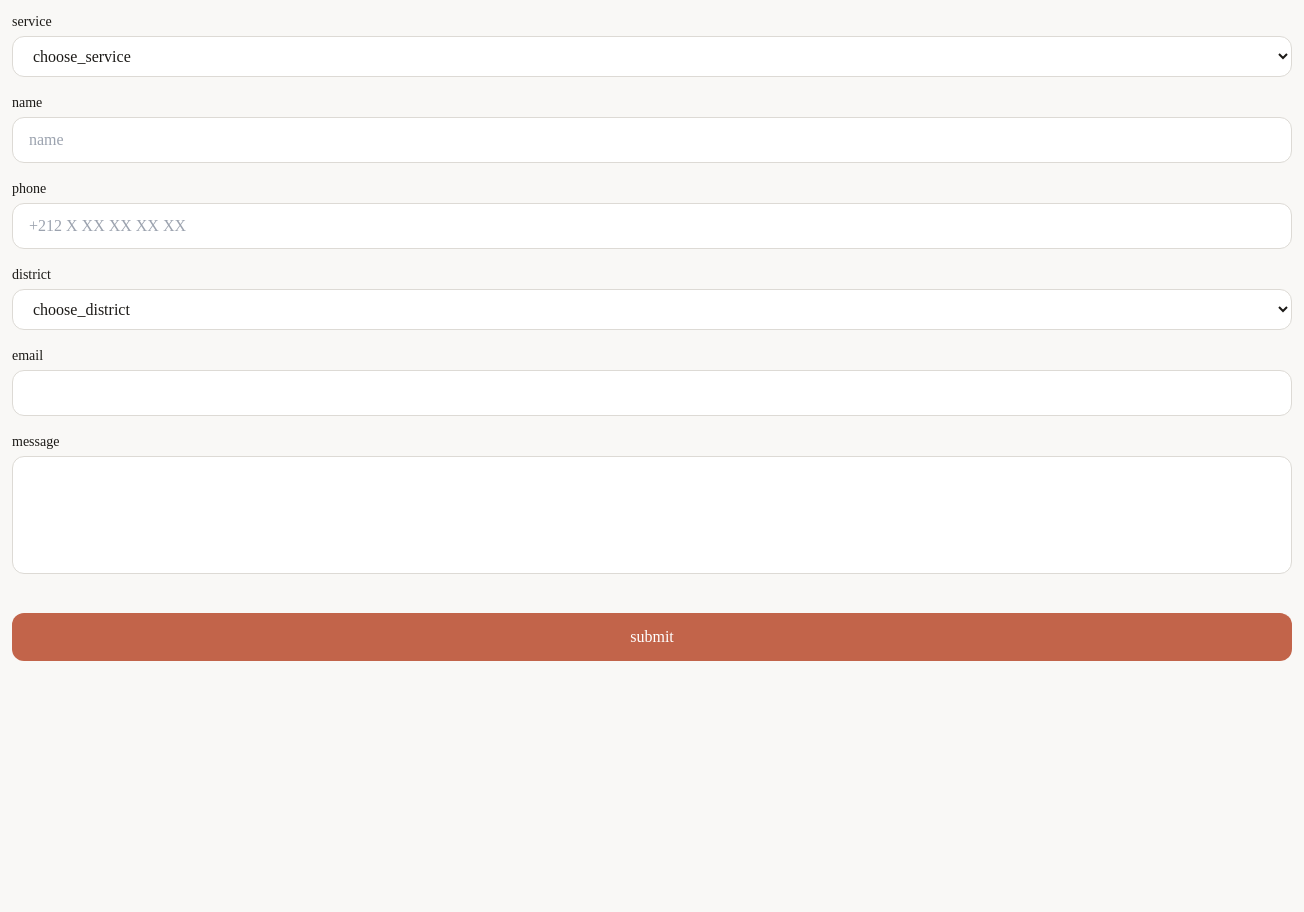
Test: ContactForm service selector › shows a mapped message when a service is required
Select "Plomberie" in the dropdown labelled "service" at (652, 56), box [12,36,1292,77]
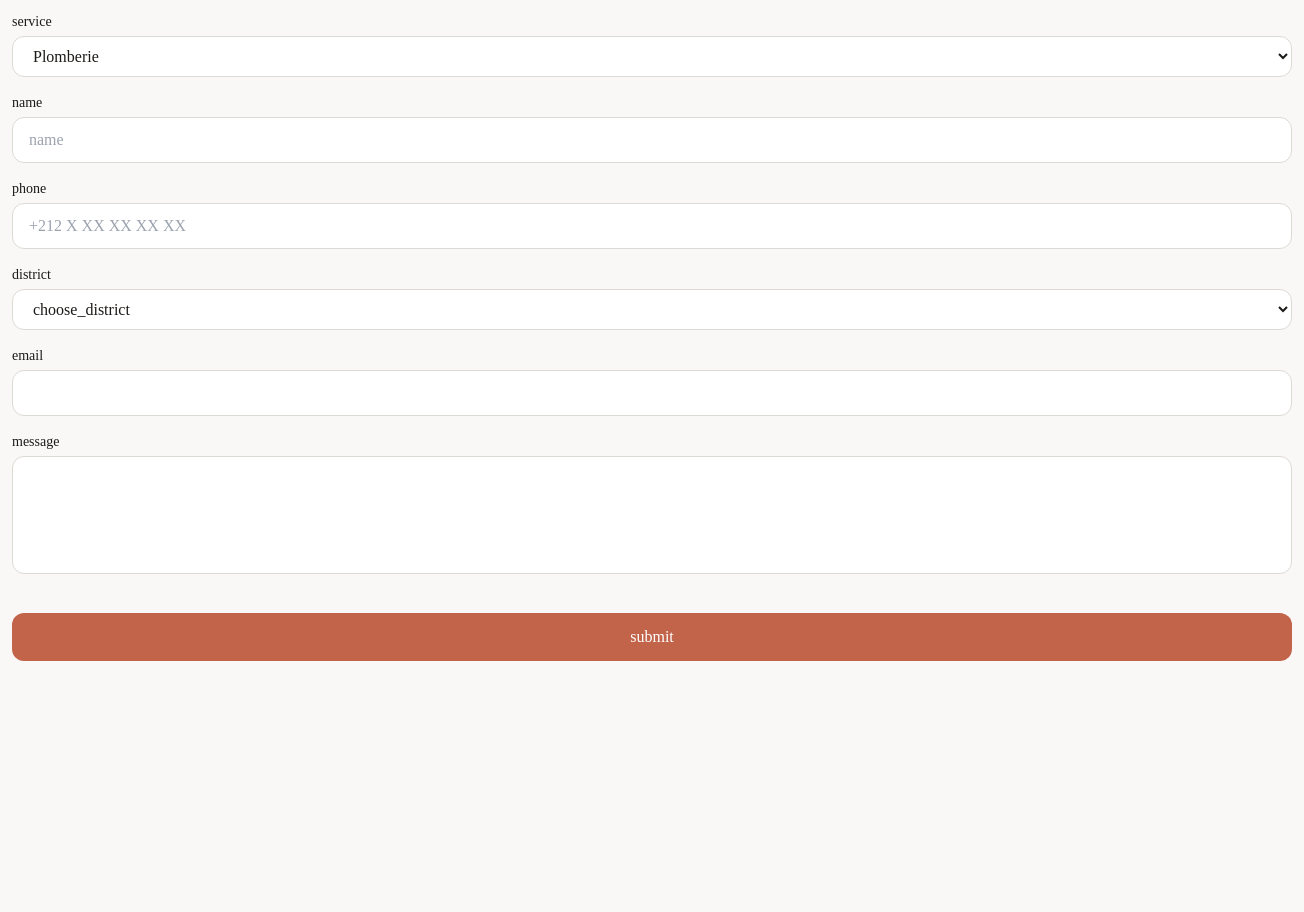
Type "Karim Test" into the field labelled "name" at (652, 140), box [12,117,1292,163]
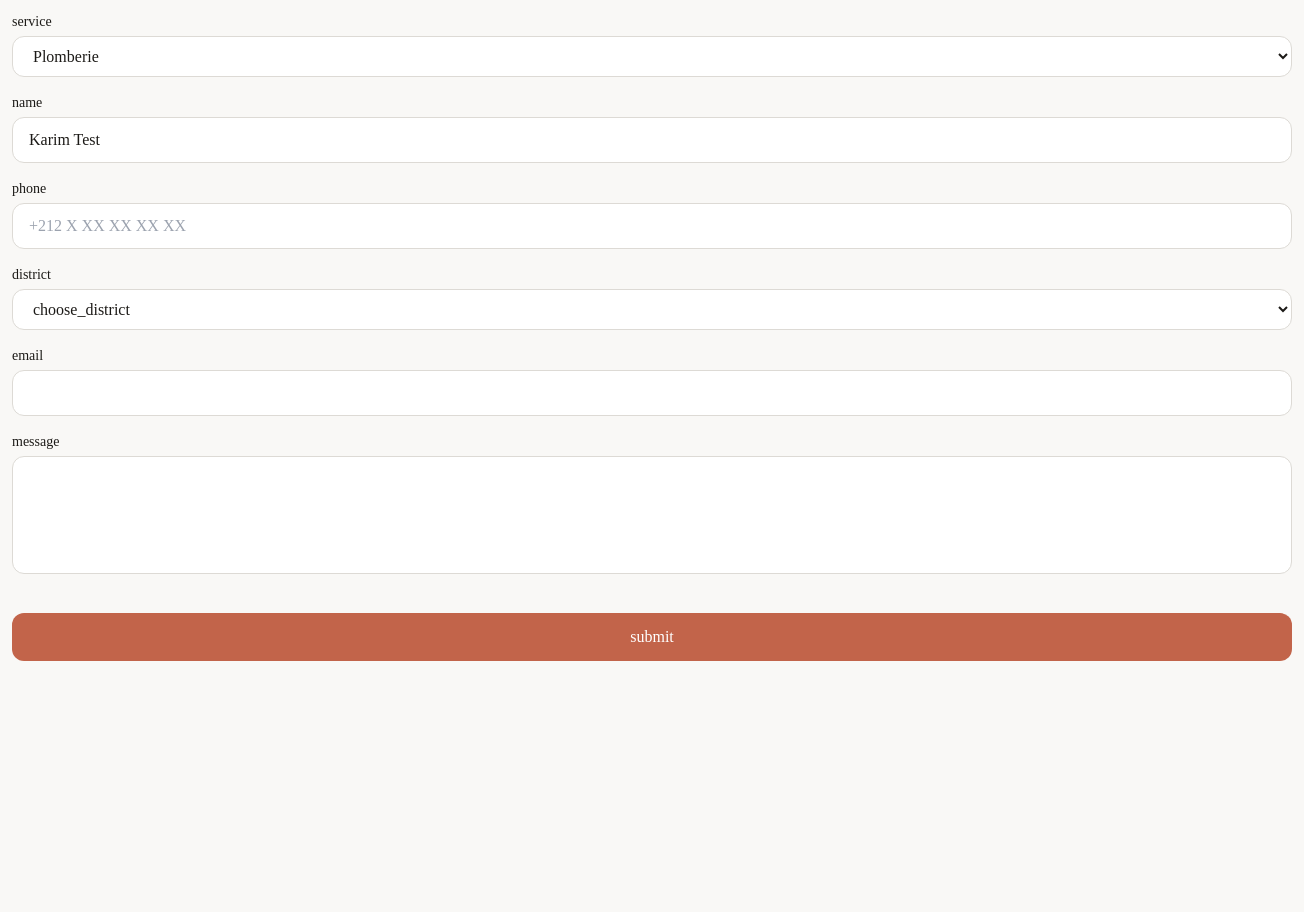
Type "+212612345678" into the field labelled "phone" at (652, 226), box [12,203,1292,249]
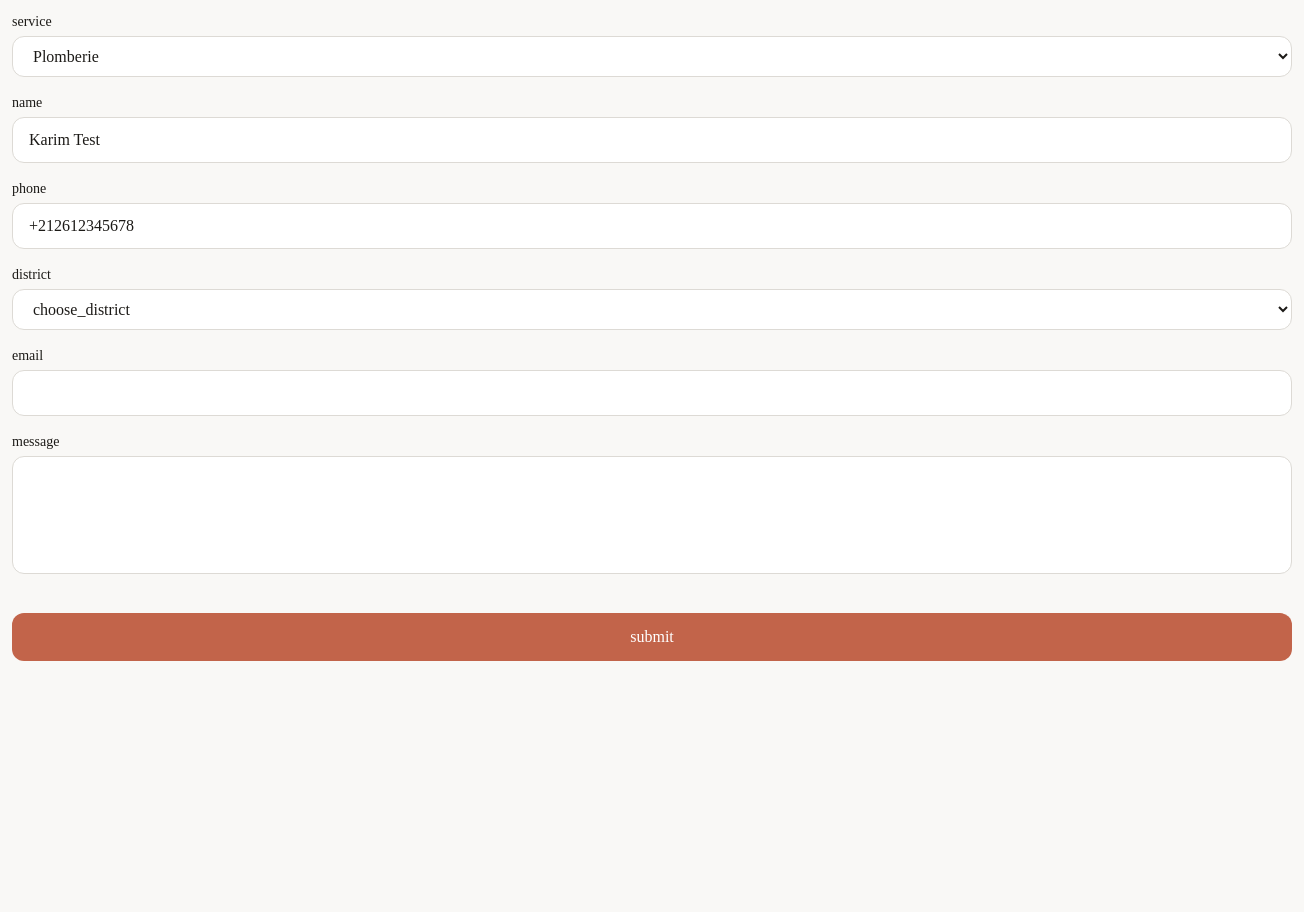
Select "Gueliz" in the dropdown labelled "district" at (652, 310), box [12,289,1292,330]
Click the button "submit" at (652, 637), box [12,613,1292,661]
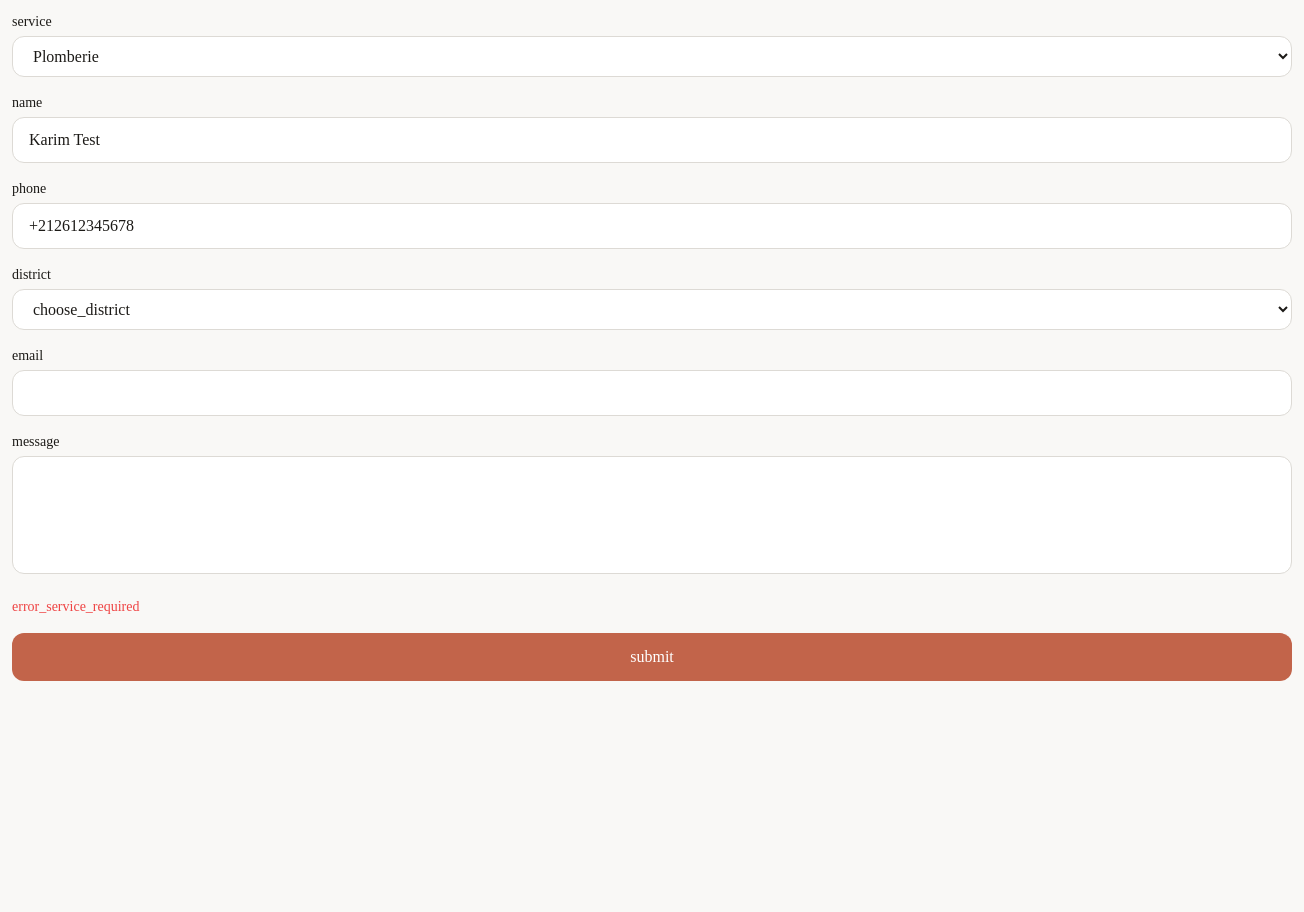
Expected: the text "error_service_required" is shown, [12,599,140,614]
